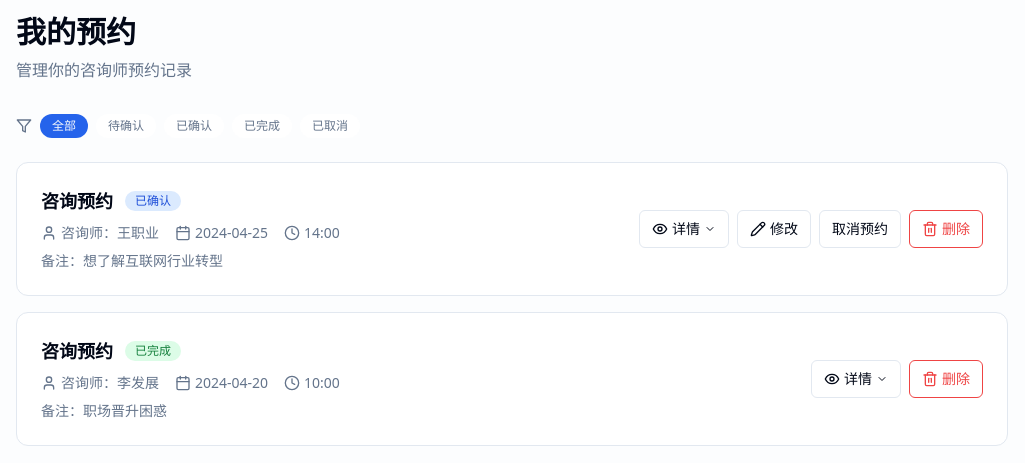
Test: Appointments Page › filters appointments by status
The width and height of the screenshot is (1025, 463).
Click the button "已完成".
click(262, 126)  # box [232,114,292,138]
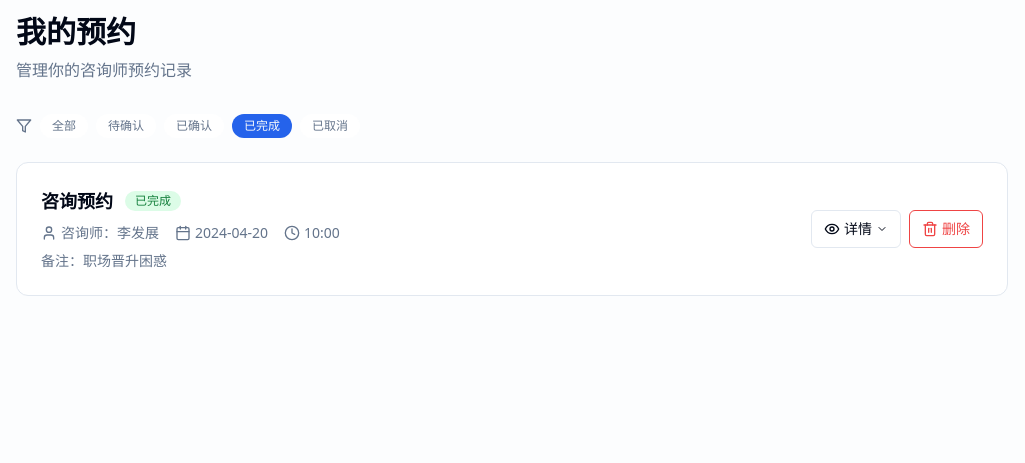
Expected: the text "咨询师：李发展" is shown, [41,223,159,243]
Result: the text "王职业" is gone
